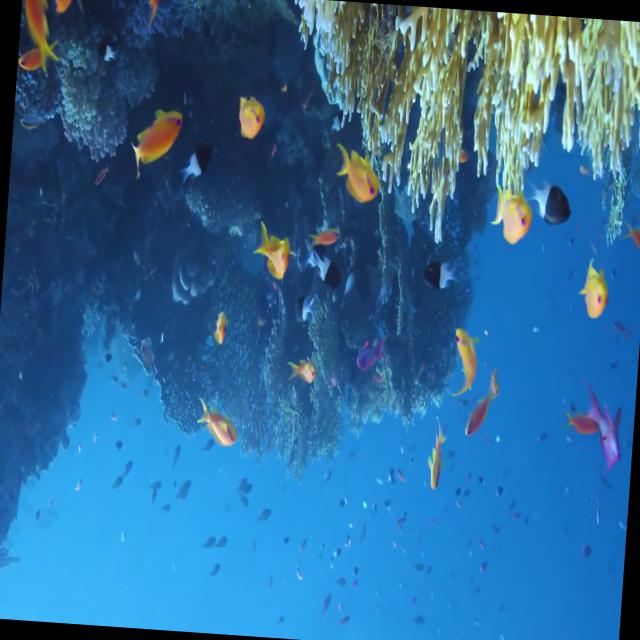fish: (565, 378, 627, 481), (122, 97, 194, 182), (487, 182, 548, 260), (459, 359, 508, 452), (17, 0, 64, 85), (567, 245, 616, 322), (528, 178, 589, 239), (188, 386, 242, 454), (444, 312, 484, 403), (227, 83, 276, 157), (243, 215, 292, 289), (295, 243, 347, 305), (420, 412, 450, 502), (415, 250, 458, 308), (277, 346, 321, 398), (178, 137, 218, 189), (205, 301, 232, 354), (49, 0, 81, 26)
